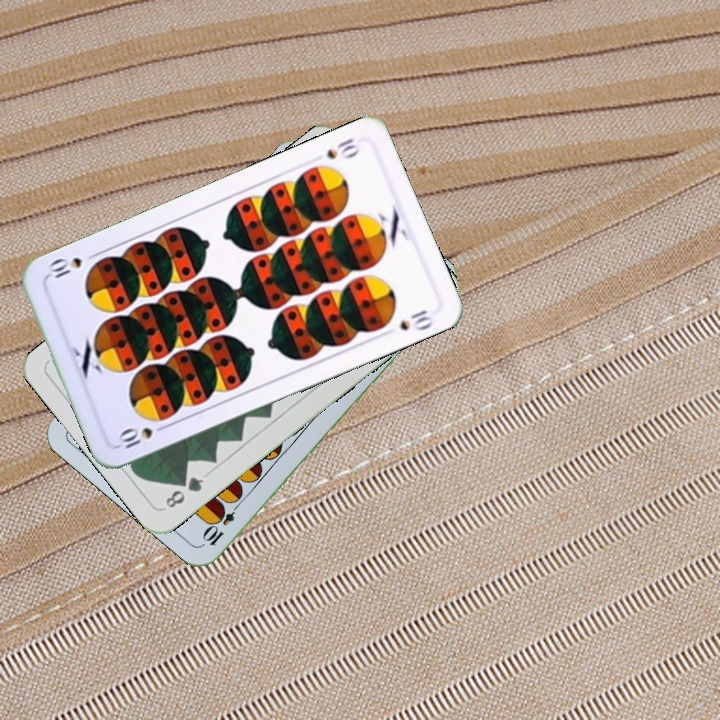E10: (200, 496, 244, 549)
G8: (161, 472, 207, 511)
S10: (114, 420, 171, 451), (322, 134, 363, 162)
